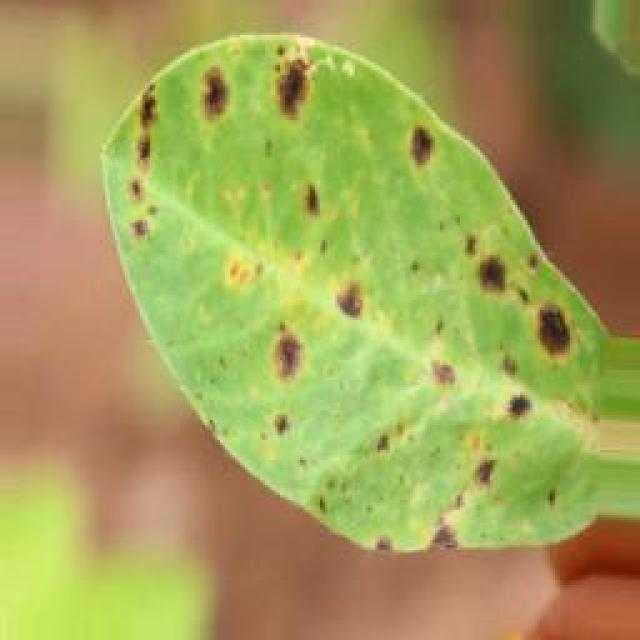Yellowish: (94, 34, 611, 558)
